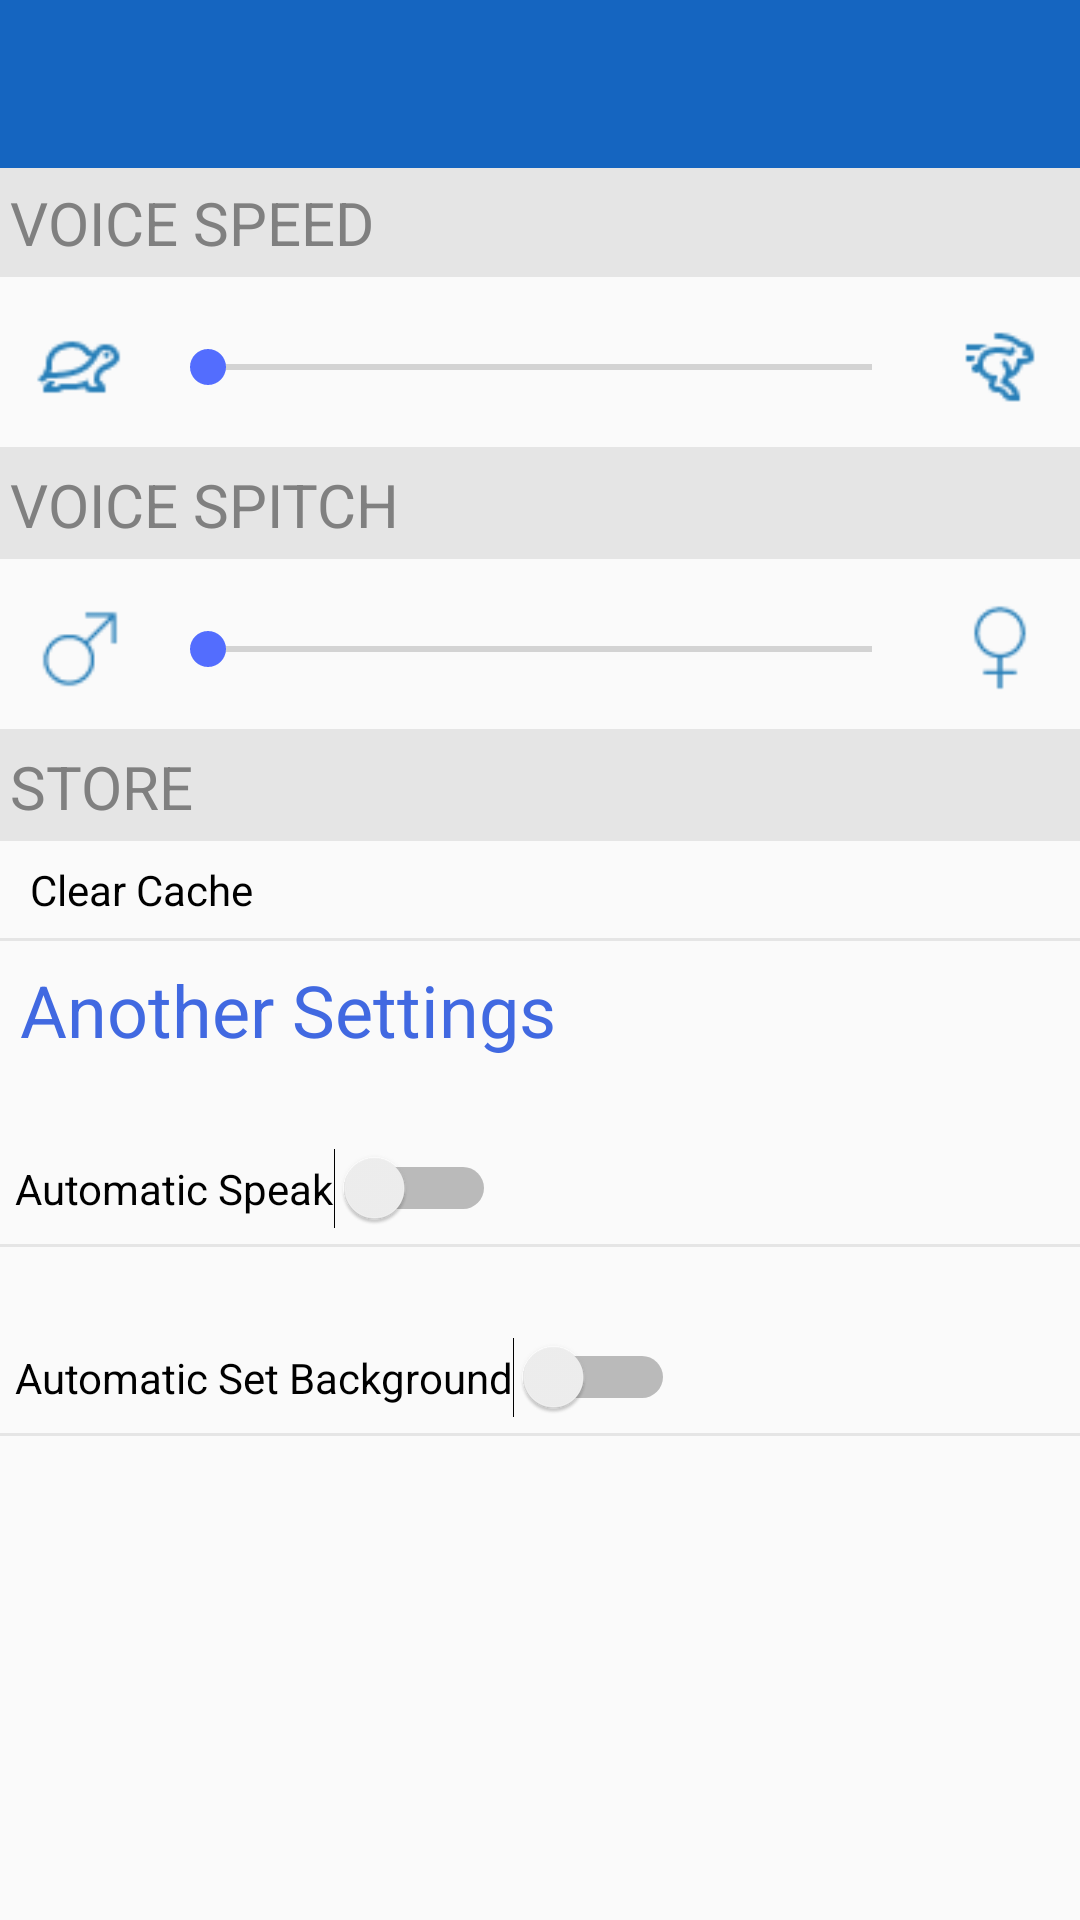

Where icons sit on this 1080 × 1920 app screen, as (x1, y1, x2, y2):
female: (974, 606, 1026, 689)
highspeed: (965, 332, 1035, 402)
lowspeed: (37, 341, 120, 393)
male: (42, 611, 118, 687)
